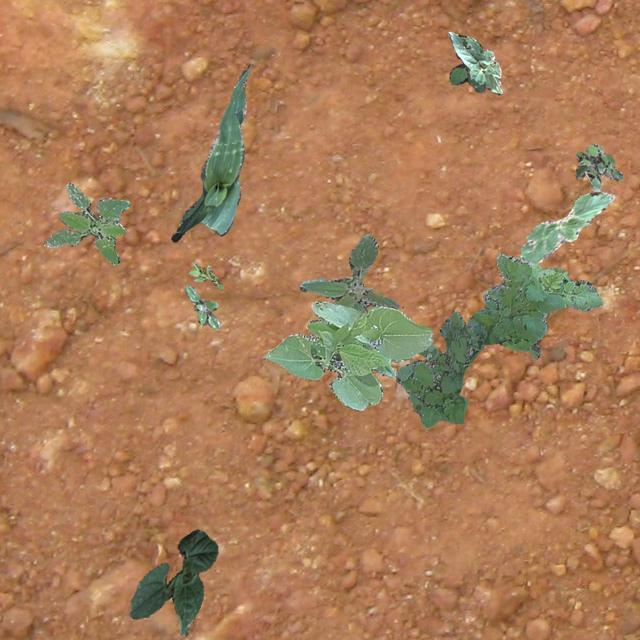crop: (263, 300, 432, 410), (170, 64, 250, 240), (128, 528, 216, 634), (518, 190, 612, 262), (446, 31, 502, 94)
weed: (395, 253, 601, 427), (298, 233, 398, 314), (44, 182, 128, 264), (574, 142, 622, 190), (183, 284, 220, 328), (448, 60, 484, 90), (188, 262, 222, 288)
